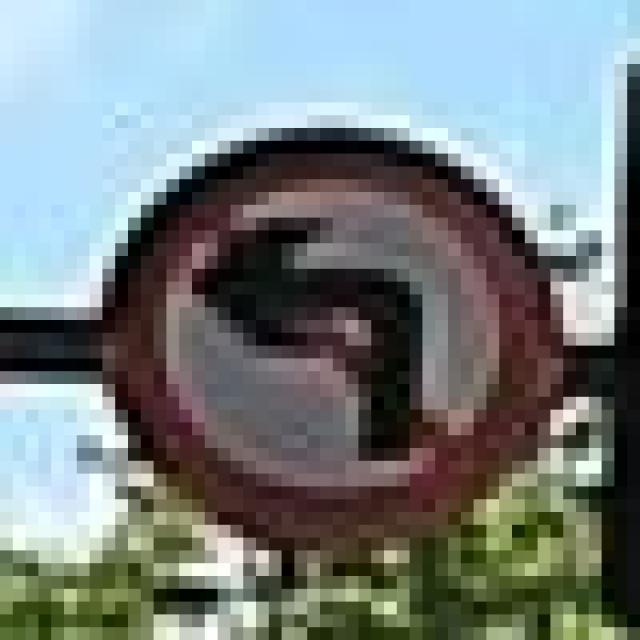left turn prohibited: (89, 115, 569, 548)
